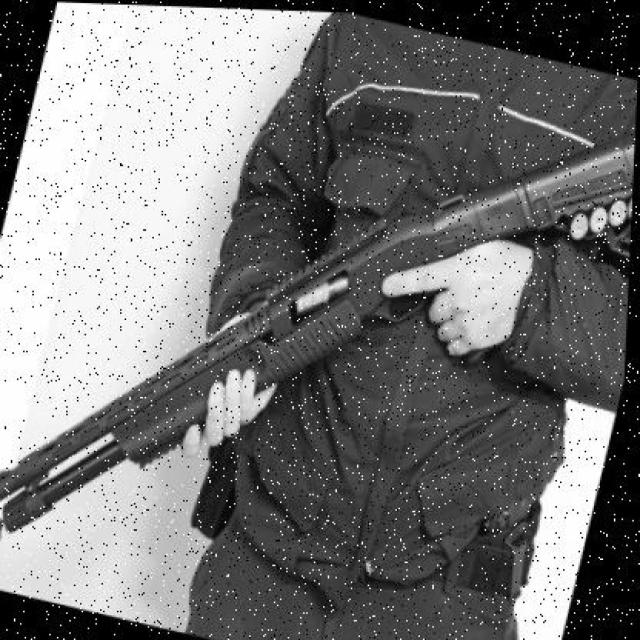weapon: (1, 128, 637, 538)
